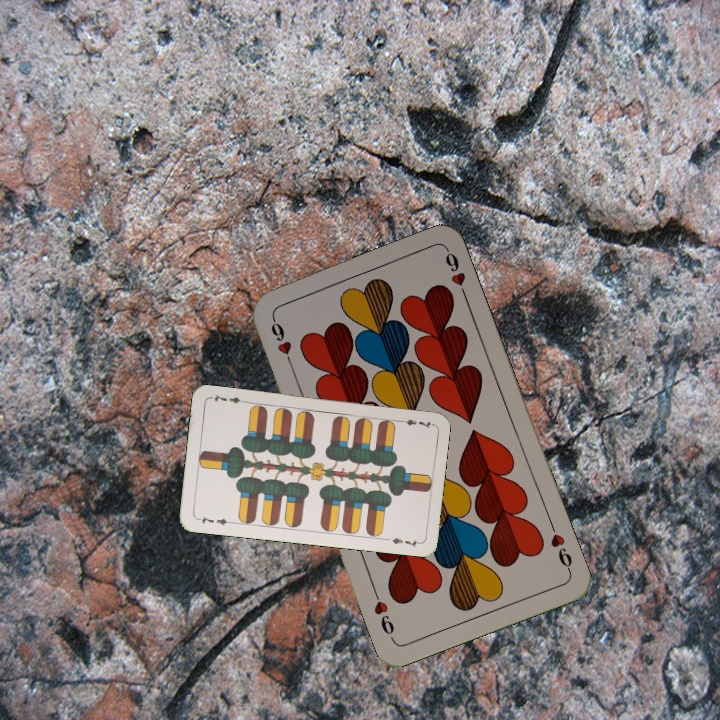E7: (194, 511, 234, 528), (394, 415, 434, 431)
H9: (545, 518, 575, 575), (267, 313, 296, 370)
